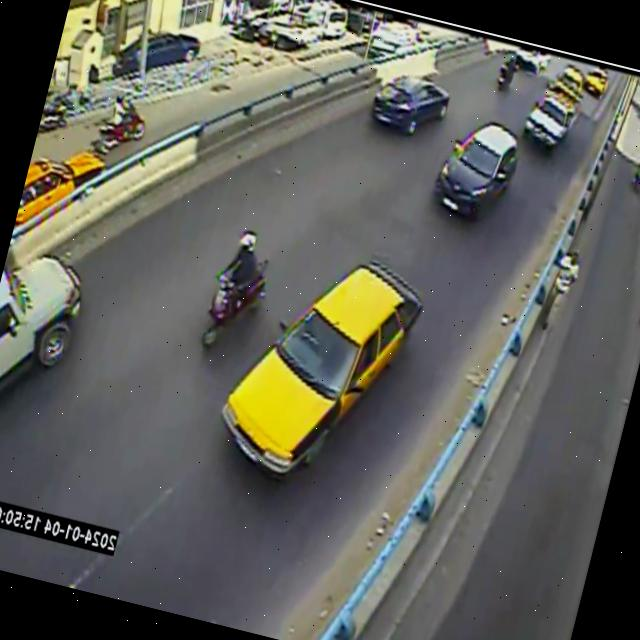car: (221, 260, 421, 475), (223, 262, 422, 467), (0, 255, 81, 392), (0, 256, 81, 390), (435, 122, 518, 216), (372, 75, 449, 135), (525, 89, 579, 148)
